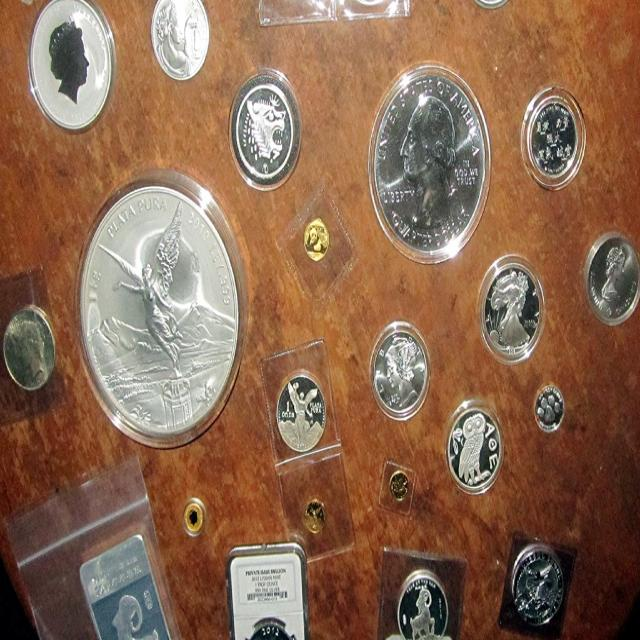Coin: (78, 184, 238, 435), (375, 69, 486, 251), (29, 0, 110, 124), (231, 78, 299, 186), (484, 264, 540, 360), (0, 303, 59, 391), (583, 236, 640, 326), (511, 545, 564, 628), (374, 332, 429, 410), (152, 0, 206, 76), (398, 566, 452, 639), (278, 375, 328, 452), (529, 99, 580, 174), (536, 386, 565, 431), (306, 212, 328, 266), (180, 499, 200, 535), (303, 505, 328, 529), (386, 474, 406, 503)
